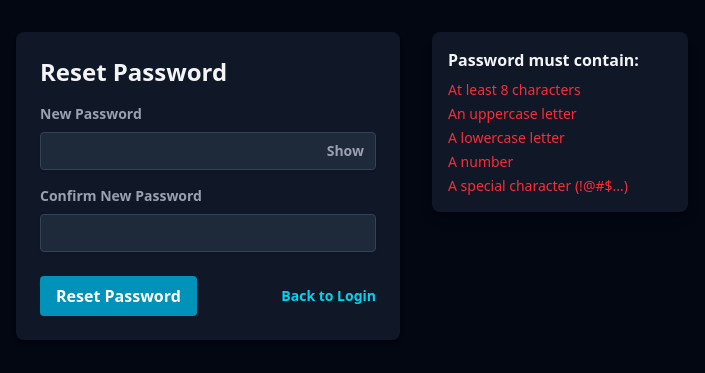
Test: ResetPasswordForm › displays error message on failed reset
Check: the heading "Reset Password" is shown, box left=40, top=55, right=227, bottom=88
In the password field labelled "New Password": (208, 151) left=40, top=132, right=376, bottom=170, type "Valid123!"
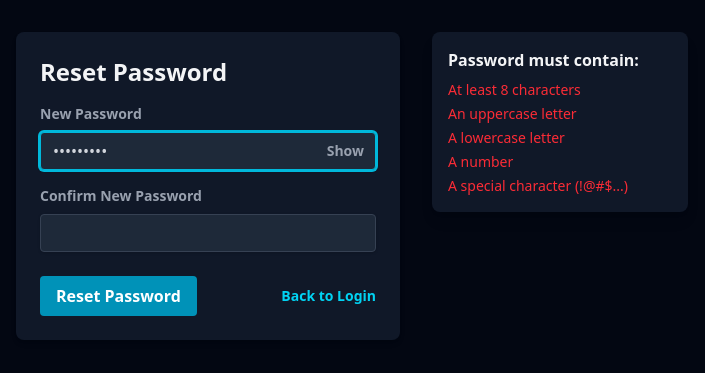
In the password field labelled "Confirm New Password": (208, 233) left=40, top=214, right=376, bottom=252, type "Valid123!"
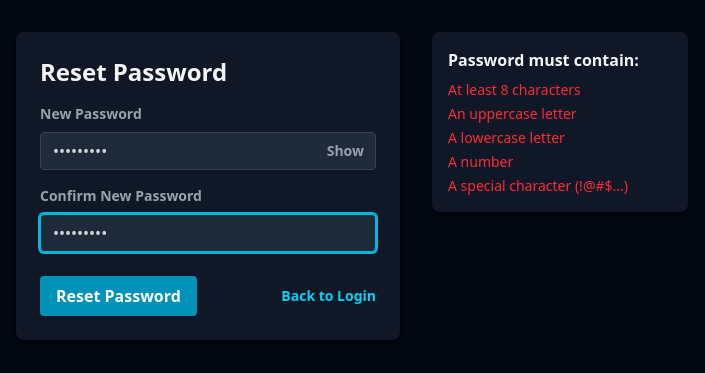
Click the button "Reset Password": (118, 296) left=40, top=276, right=197, bottom=316
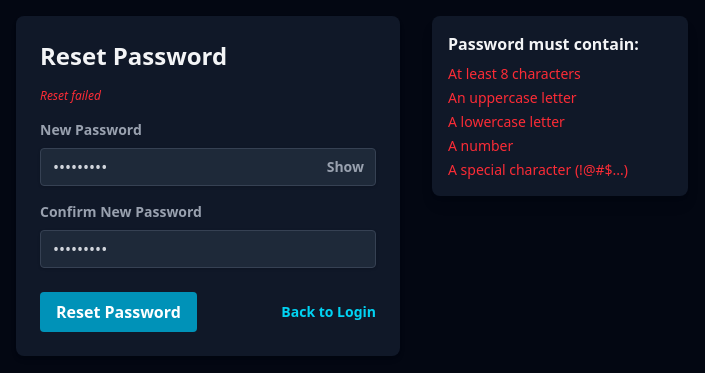
Check: the text "Reset failed" is shown, box left=40, top=87, right=101, bottom=104
